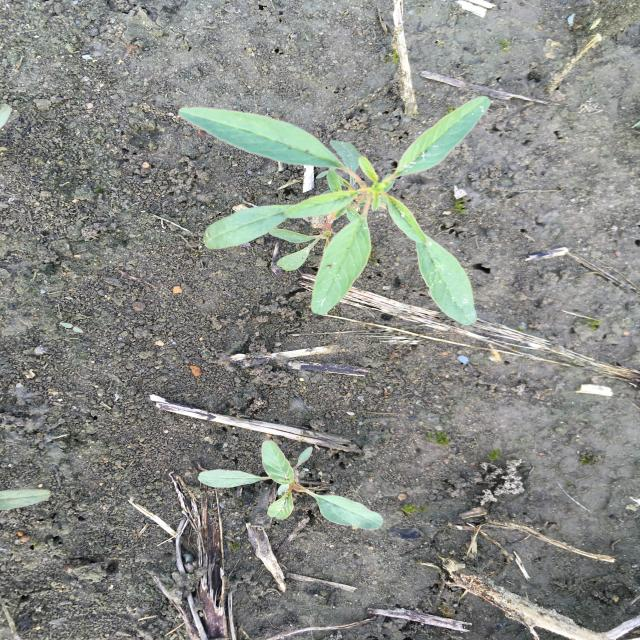Waterhemp: (175, 94, 493, 329), (197, 440, 386, 531)
